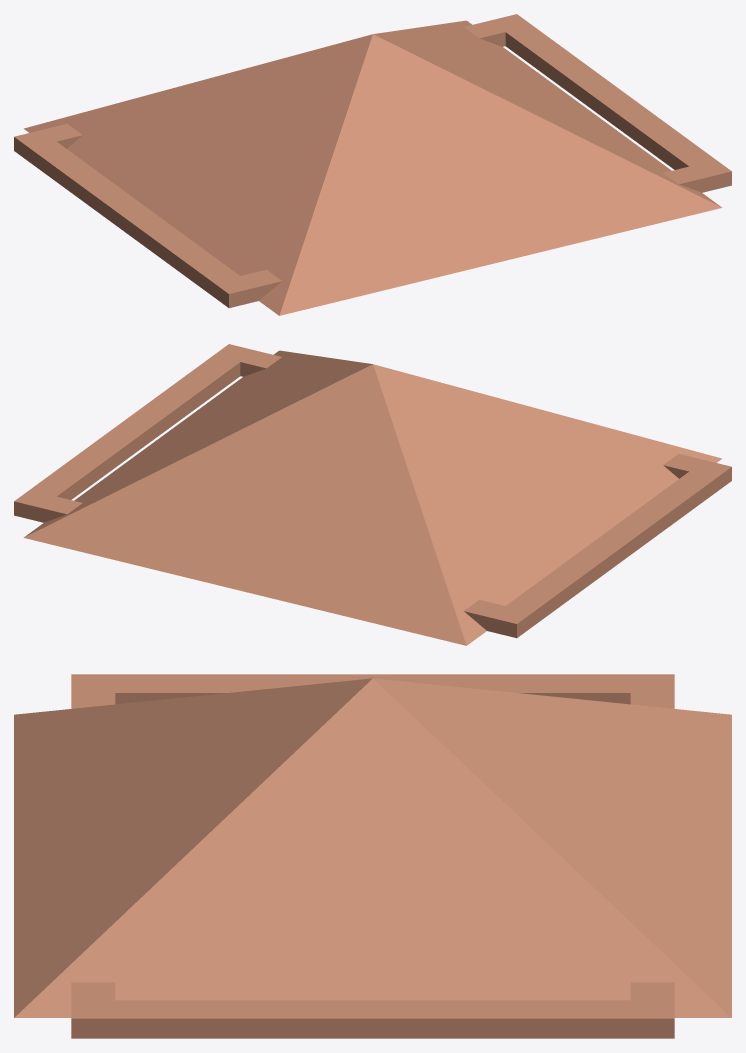
The model's file is mdl_architecture_roof_hip_tile_001.glb.
3 views of the same model, one above another, from view 1: azimuth 30°, elevation 25°; view 2: azimuth 150°, elevation 25°; view 3: azimuth 270°, elevation 25° (orthographic). The views are drawn at different scales.
Visible parts, largest first — view 1: m_teja; view 2: m_teja; view 3: m_teja.
Part boxes in pixels (x1,y1,x2,y2): m_teja: (14,14,731,315); m_teja: (14,344,731,645); m_teja: (14,674,731,1038).
Bounding box in the file's own units: 3.72 × 0.9468 × 3.28.
